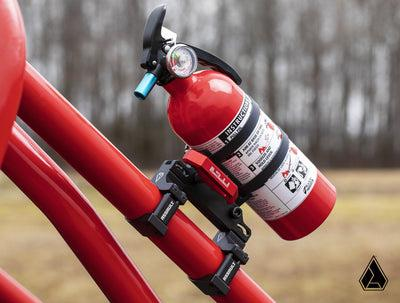Fire Extinguisher: (127, 0, 343, 246)
